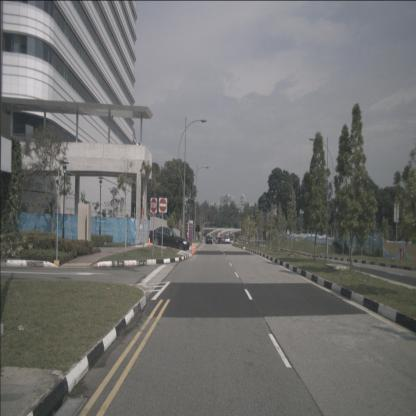cone: (192, 242, 195, 253), (191, 243, 194, 254), (148, 237, 151, 246), (193, 242, 196, 251)
